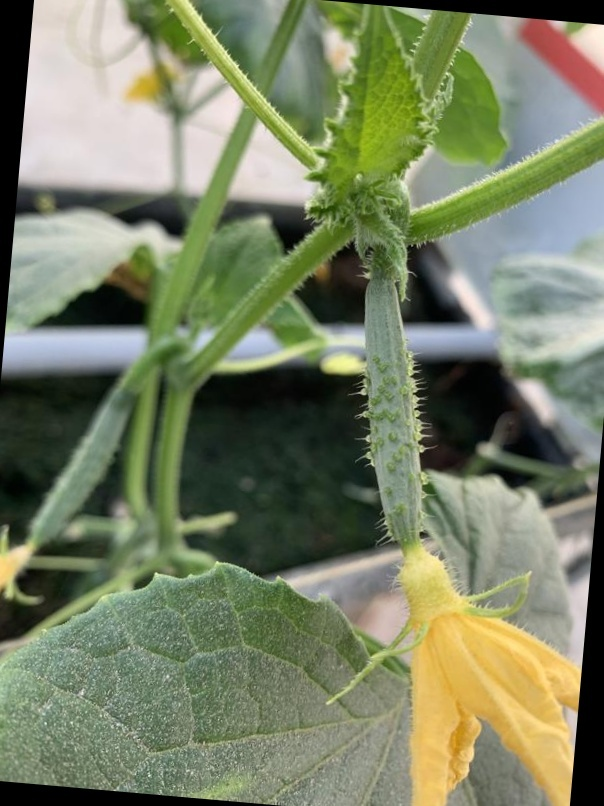bear: (312, 236, 599, 781)
